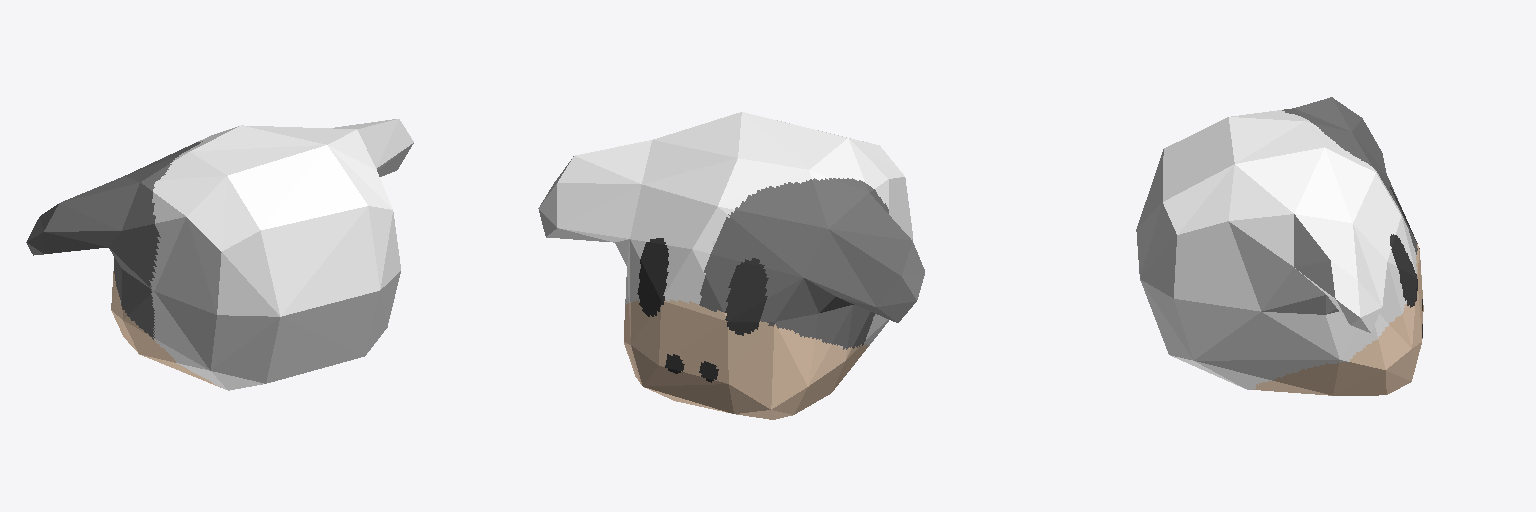
The picture shows the model from 3 angles: view 1: azimuth 30°, elevation 25°; view 2: azimuth 150°, elevation 25°; view 3: azimuth 270°, elevation 25°; orthographic projection.
Parts seen in each view (by area): view 1: Cube; view 2: Cube; view 3: Cube.
Part boxes in pixels (x1,y1,x2,y2): Cube: (26, 119, 413, 390); Cube: (538, 112, 924, 419); Cube: (1136, 97, 1423, 395).
Bounding box in the file's own units: 3.31 × 1.93 × 2.17.
1 materials, 1 textured.